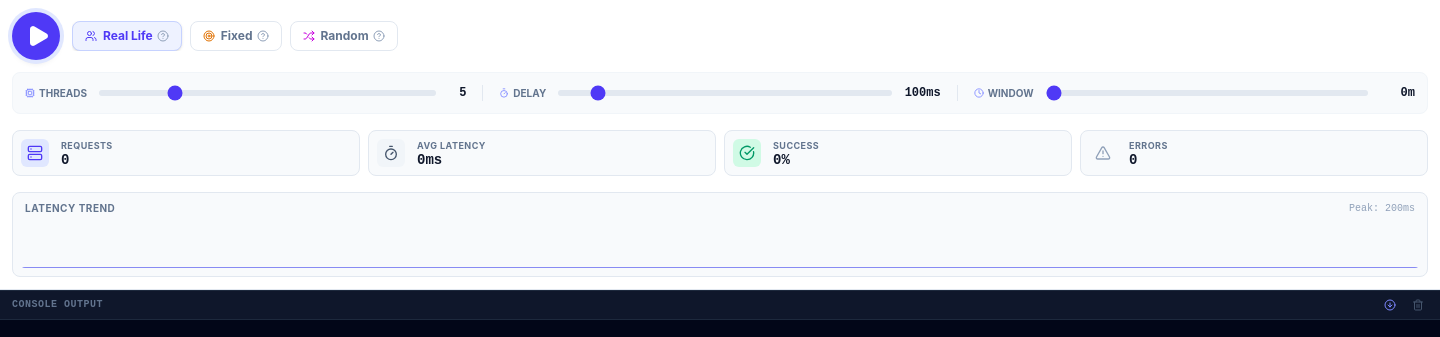
Test case: BenchmarkTab scenario tooltip › opens and closes tooltip on repeated click for touch behavior
Click the 1st button named "Show scenario description" at (163, 36), box [157,30,169,42]
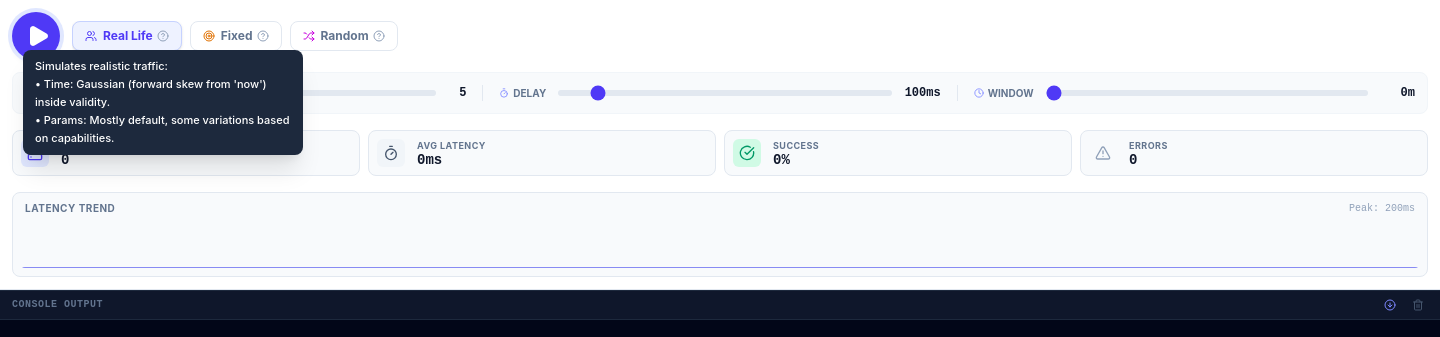
expect the tooltip is shown: met, box [23,50,303,155]
Click the 1st button named "Show scenario description" at (163, 36), box [157,30,169,42]
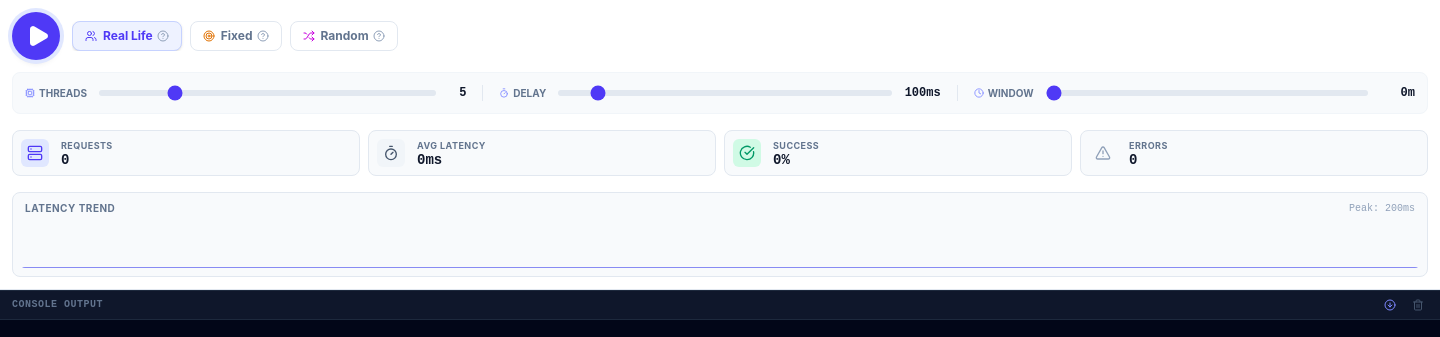
expect the tooltip is gone: met
